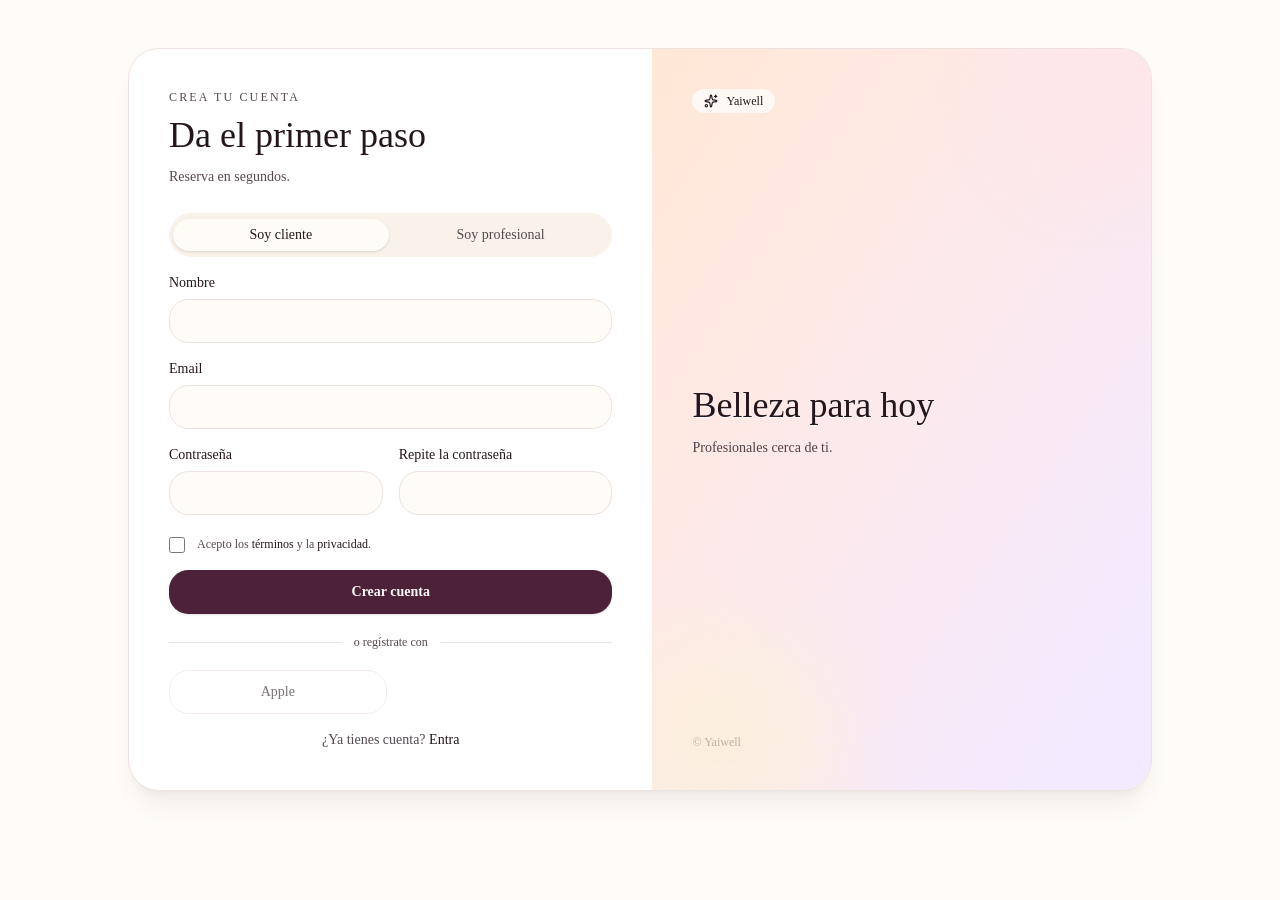
Test case: SignUpForm › tras submit válido pasa a la fase de verificación
Step 1. Type "Jorge" into the field labelled "Nombre" → x=391, y=321, box [169,299,612,343]
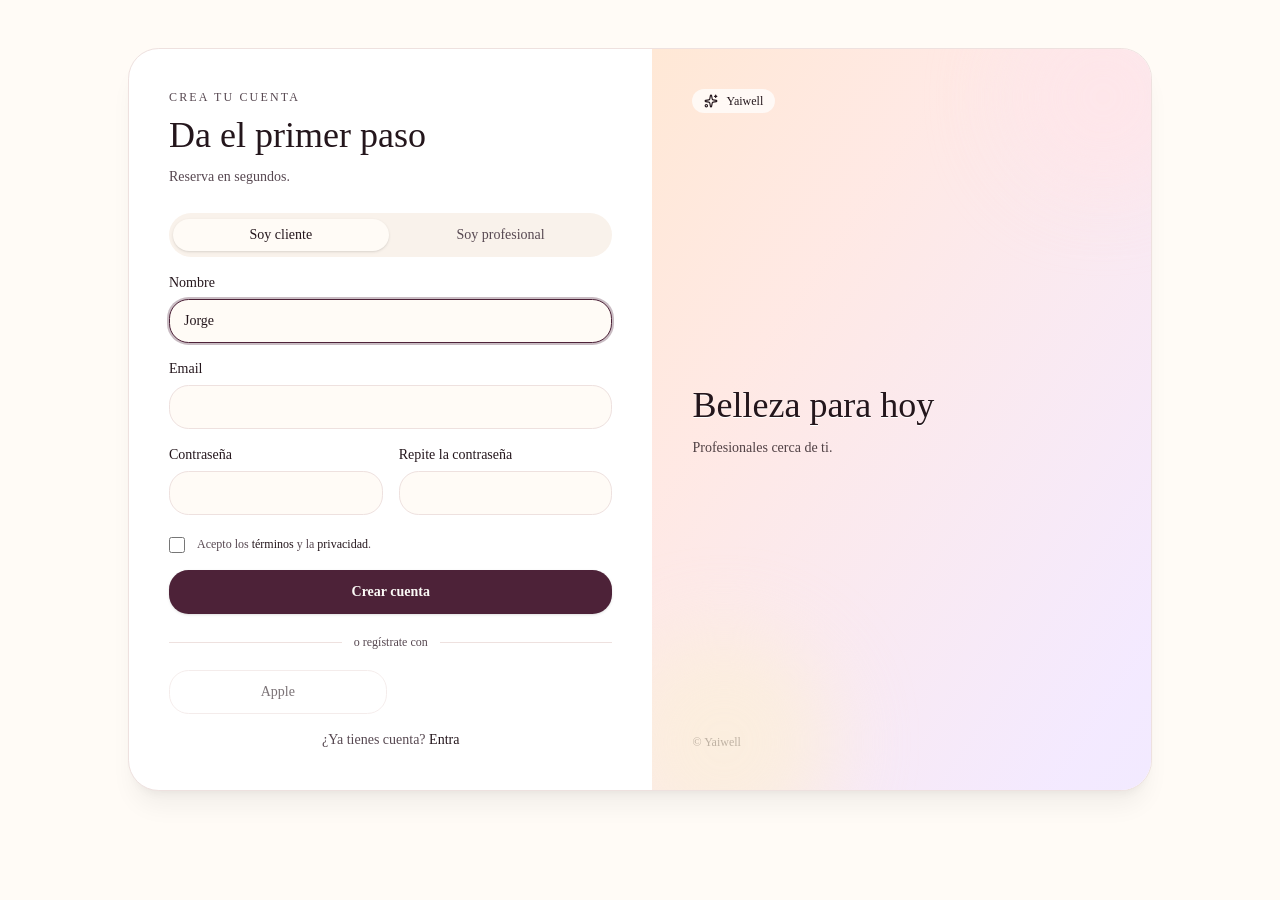
Step 2. Type "jorge@yaiwell.com" into the field labelled "Email" → x=391, y=407, box [169,385,612,429]
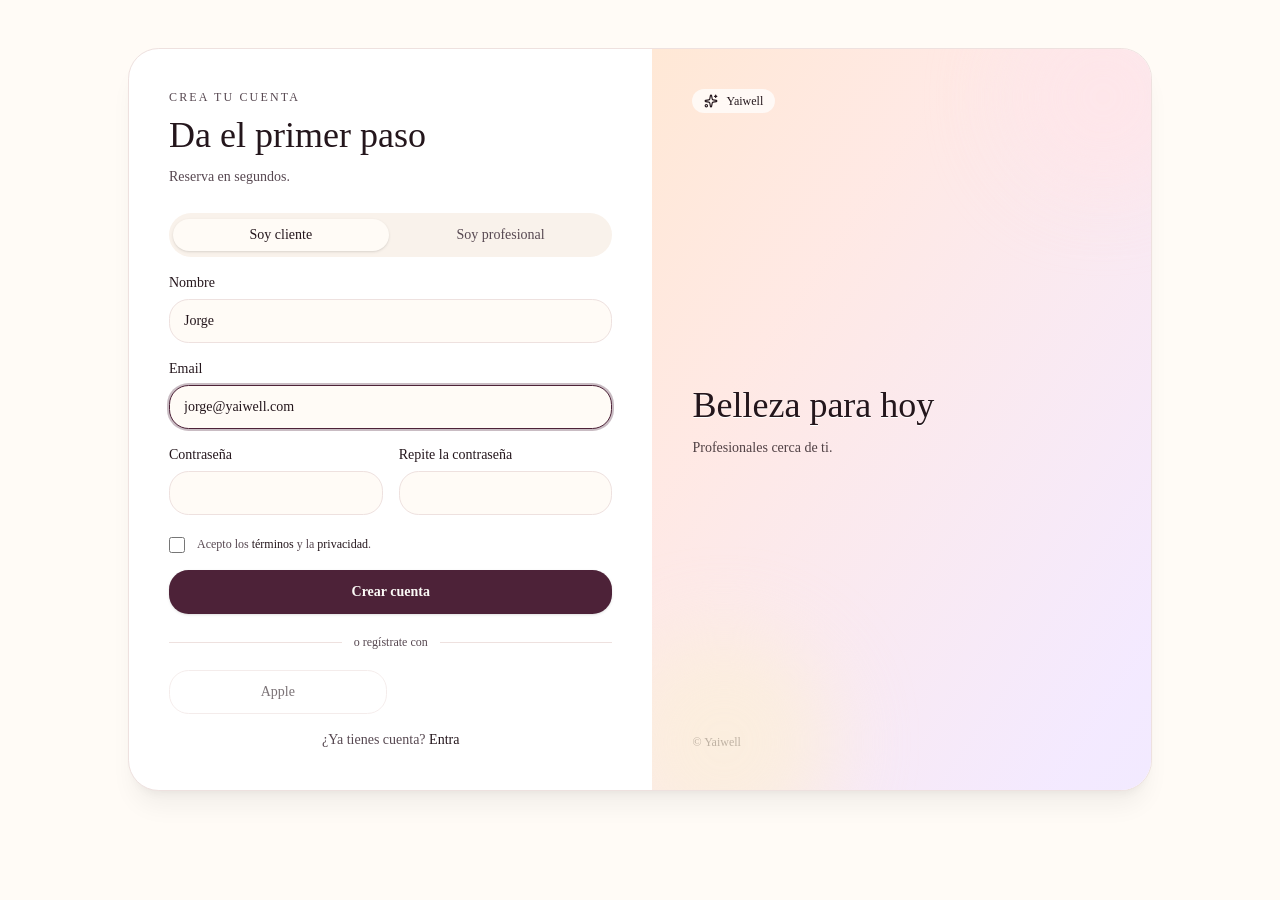
Step 3. Type "unaclavefuerte" into the password field labelled "Contraseña" → x=276, y=493, box [169,471,383,515]
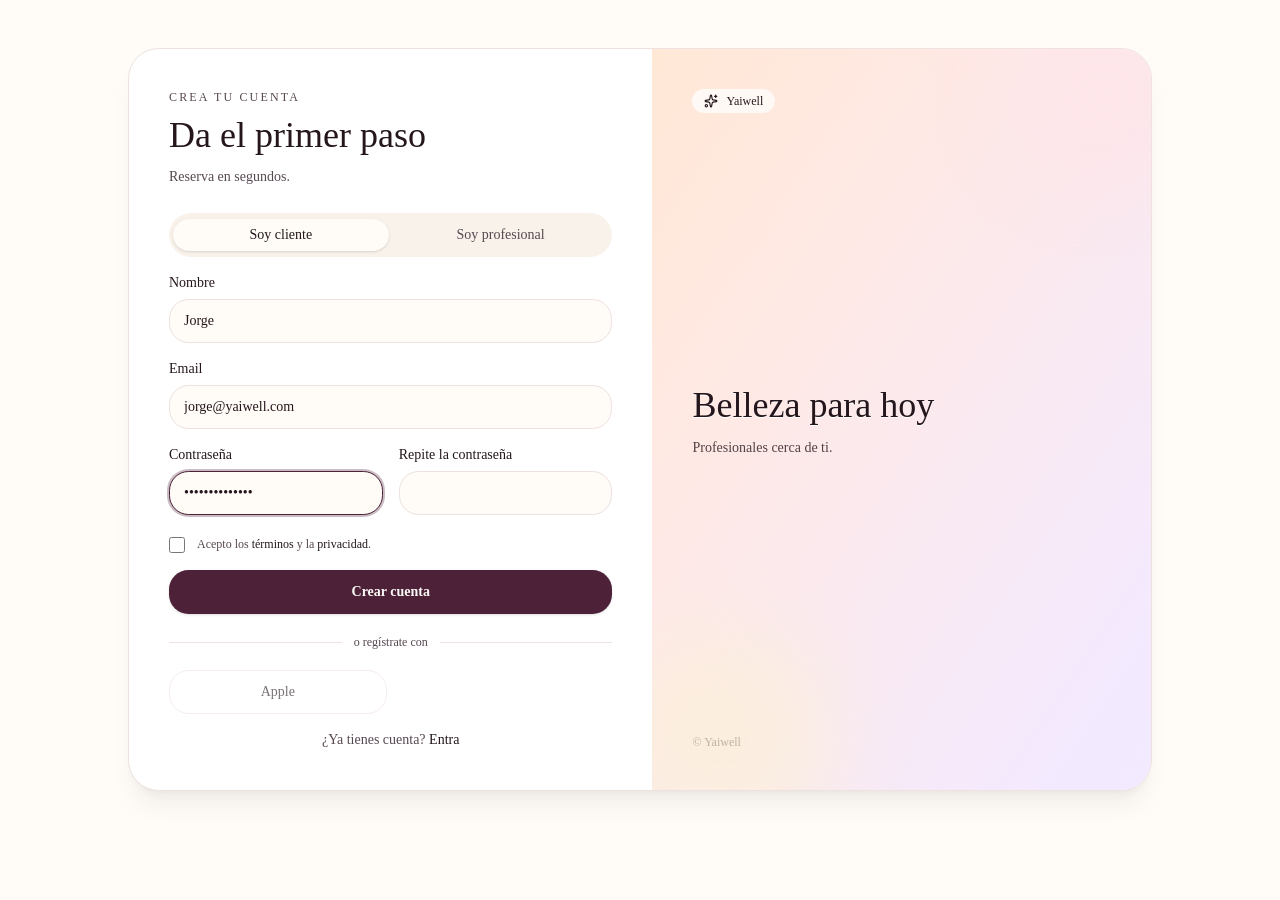
Step 4. Type "unaclavefuerte" into the password field labelled "Repite la contraseña" → x=506, y=493, box [399,471,612,515]
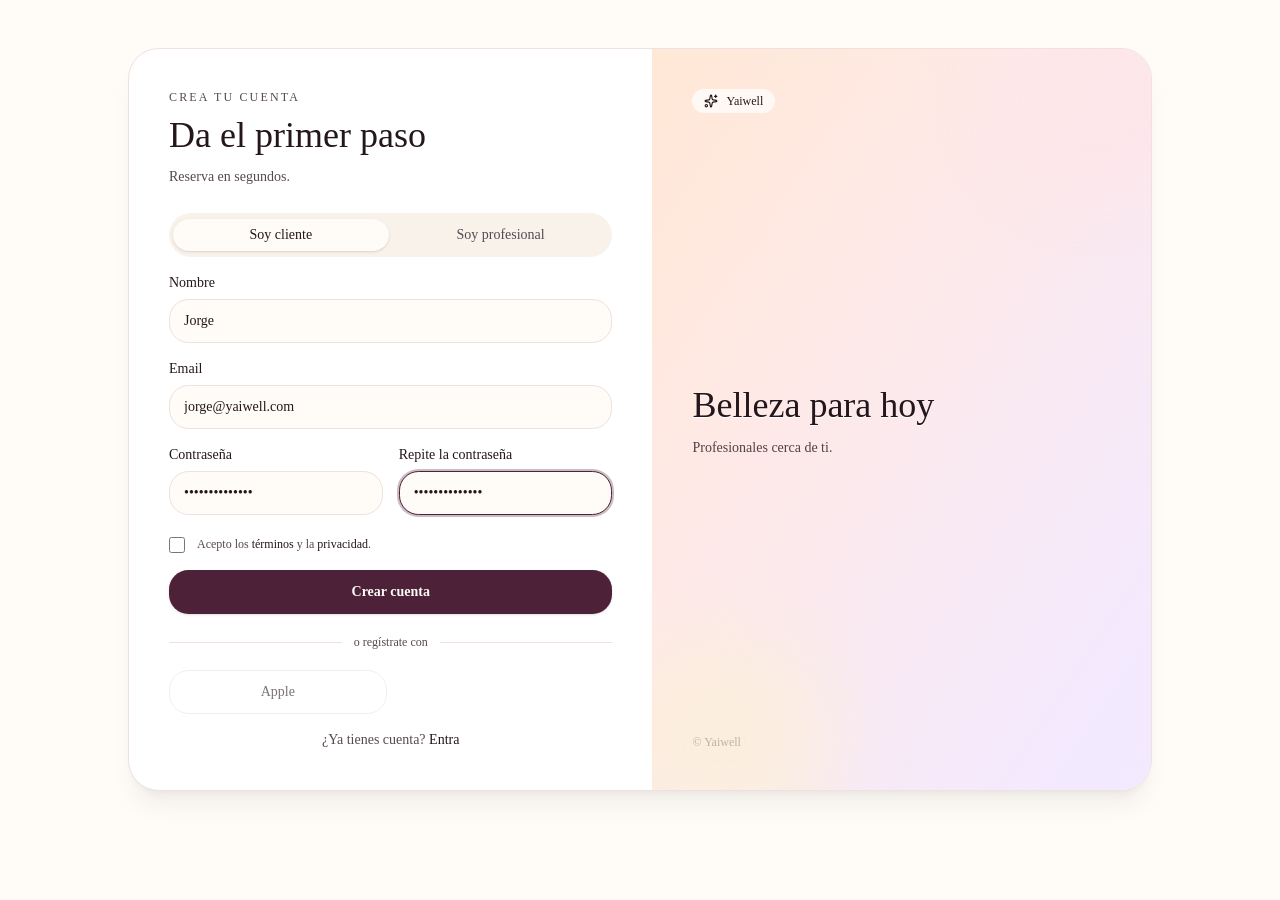
Step 5. Click the checkbox → x=177, y=545, box [169,537,185,553]
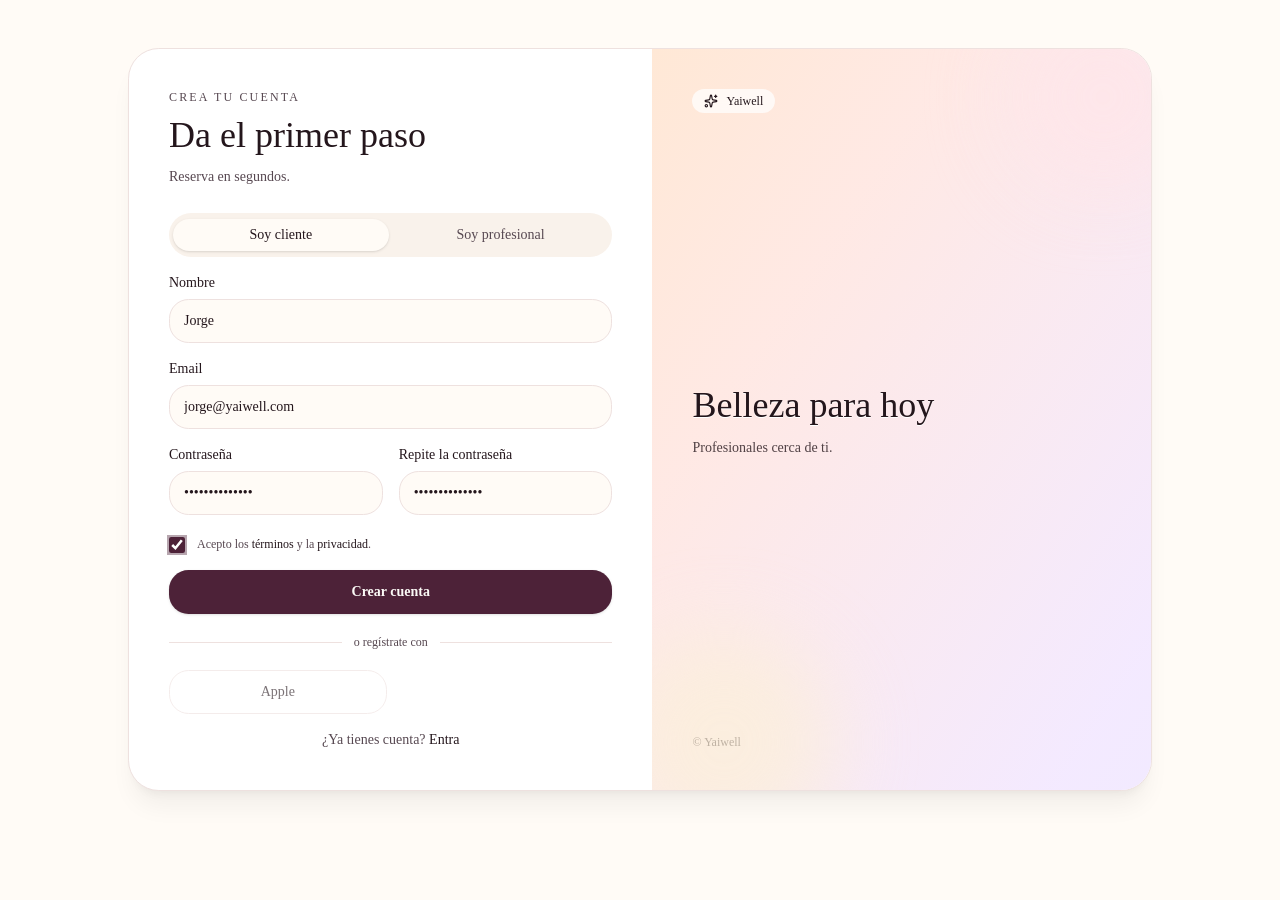
Step 6. Click the button "Crear cuenta" → x=391, y=592, box [169,570,612,614]
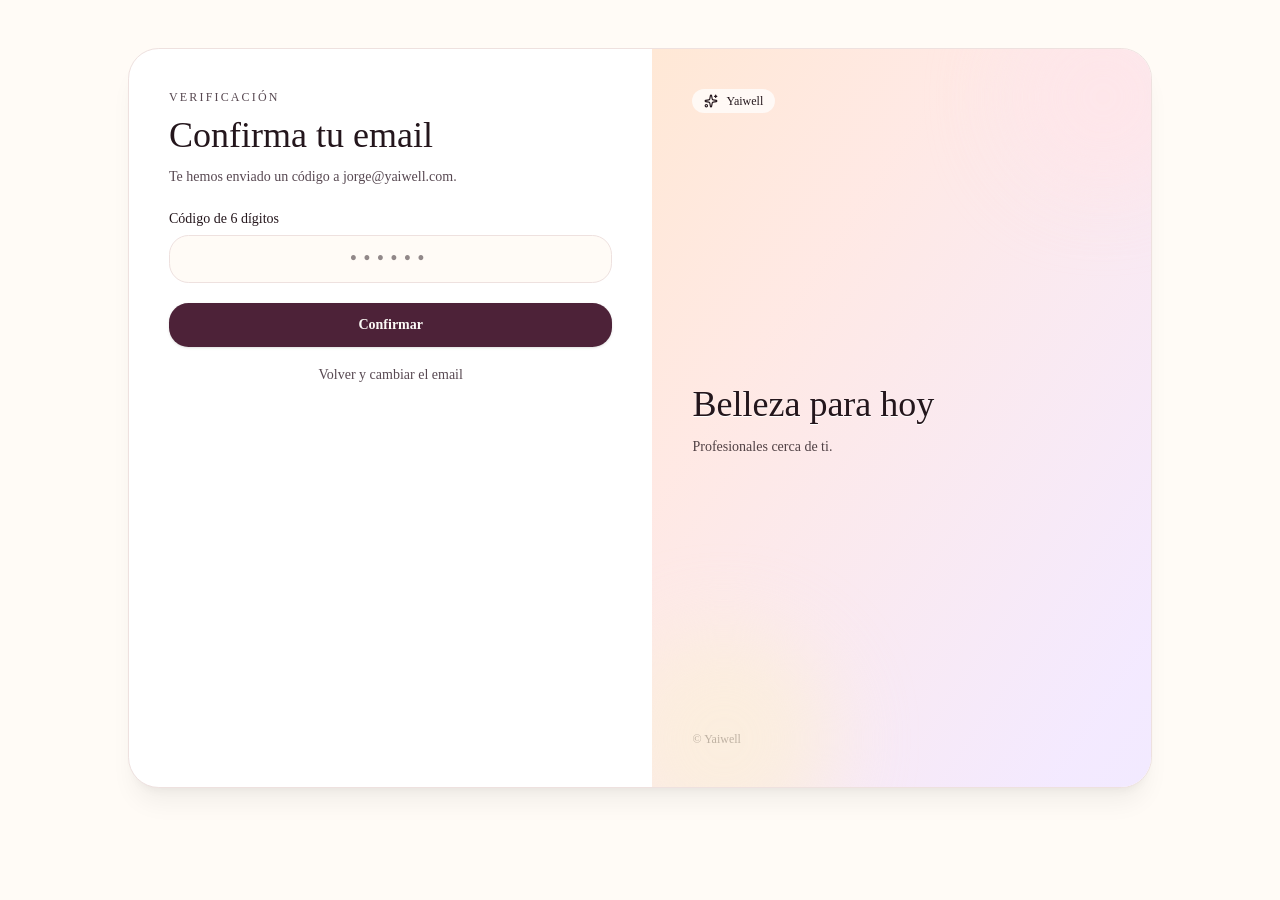
Expected: the heading "Confirma tu email" is shown, [169,115,433,155]
